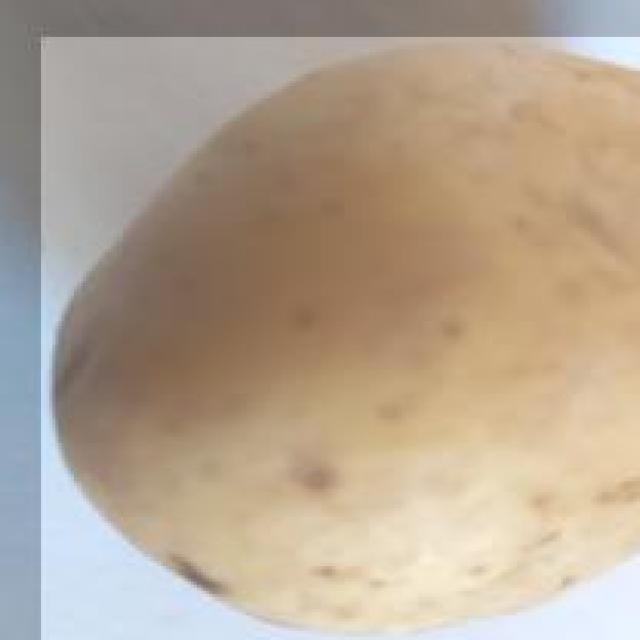potato: (40, 34, 640, 640)
